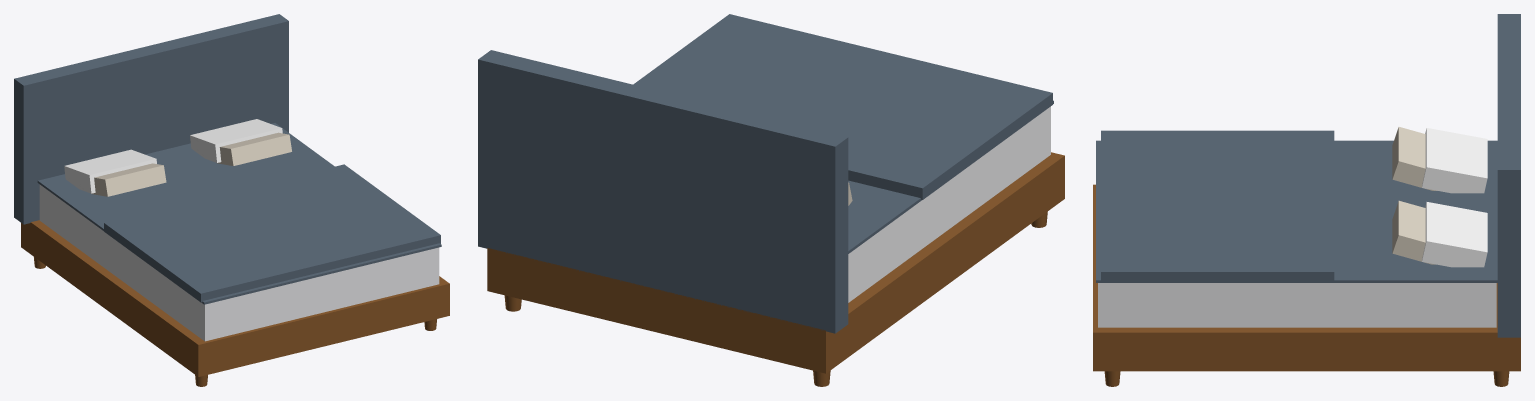
File: bed.glb
The picture shows the model from 3 angles, left to right: view 1: azimuth 30°, elevation 25°; view 2: azimuth 150°, elevation 25°; view 3: azimuth 270°, elevation 25°; orthographic projection. The views are drawn at different scales.
Visible parts, largest first — view 1: headboard, accessory_blanket, frame, mattress, accessory_bedsheet, accessory_pillow_back_1, accessory_pillow_back_2, accessory_pillow_front_1, accessory_pillow_front_2; view 2: headboard, accessory_blanket, frame, mattress, accessory_bedsheet, Bed; view 3: accessory_blanket, frame, mattress, accessory_bedsheet, headboard, accessory_pillow_back_2, accessory_pillow_back_1, accessory_pillow_front_1, accessory_pillow_front_2, Bed.
Boxes of the visible parts, <box> form: headboard: <box>14,14,288,224</box>; accessory_blanket: <box>104,164,440,302</box>; frame: <box>21,220,449,376</box>; mattress: <box>39,184,439,341</box>; accessory_bedsheet: <box>37,123,441,304</box>; accessory_pillow_back_1: <box>64,149,156,193</box>; accessory_pillow_back_2: <box>190,119,282,162</box>; accessory_pillow_front_1: <box>91,163,166,196</box>; accessory_pillow_front_2: <box>217,132,291,165</box>; headboard: <box>478,50,848,333</box>; accessory_blanket: <box>633,14,1052,199</box>; frame: <box>487,152,1064,373</box>; mattress: <box>848,106,1050,302</box>; accessory_bedsheet: <box>848,100,1053,253</box>; Bed: <box>504,211,1047,386</box>; accessory_blanket: <box>1101,130,1334,282</box>; frame: <box>1093,184,1520,371</box>; mattress: <box>1098,283,1496,327</box>; accessory_bedsheet: <box>1096,140,1497,282</box>; headboard: <box>1497,14,1520,337</box>; accessory_pillow_back_2: <box>1422,202,1487,267</box>; accessory_pillow_back_1: <box>1422,128,1487,193</box>; accessory_pillow_front_1: <box>1392,127,1437,190</box>; accessory_pillow_front_2: <box>1392,200,1435,264</box>; Bed: <box>1104,371,1509,386</box>.
Bounding box in the file's own units: 1.9 × 1.27 × 2.2.
